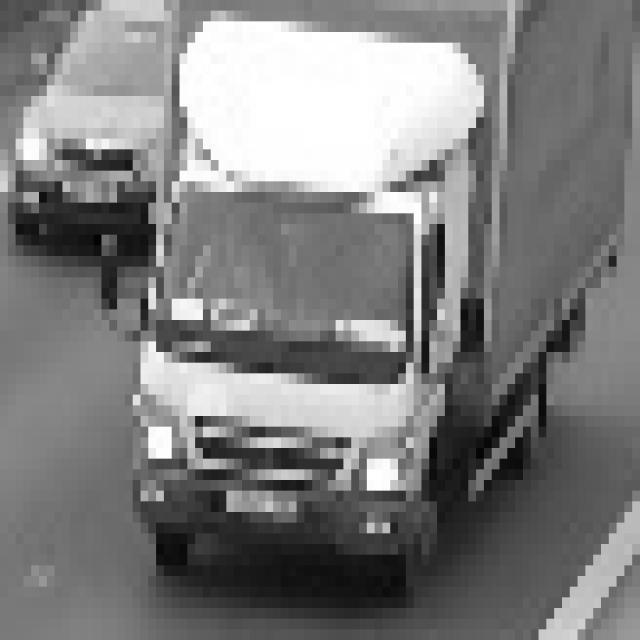truck: (95, 134, 491, 577)
